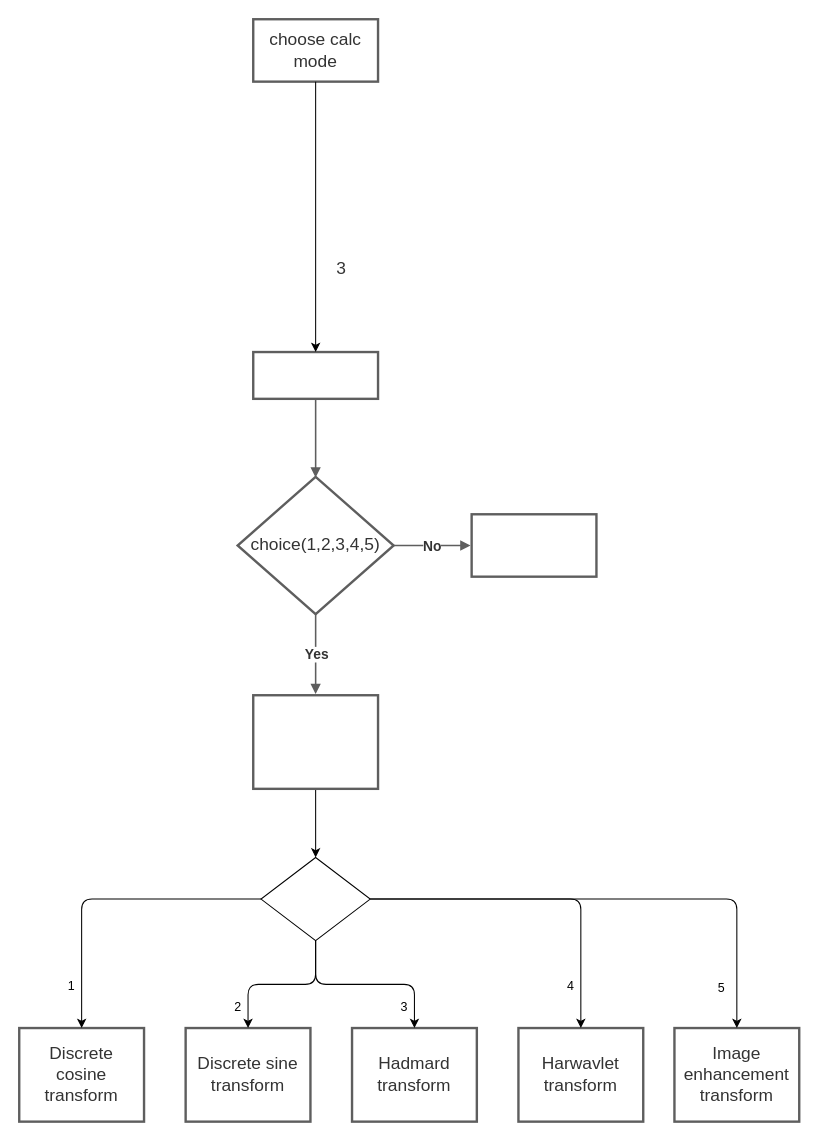
The diagram is 818 pixels wide and 1141 high, and some of its shapes have lost their labels. The centre of each missing label's shape, as x and y in pixels:
electronicsCalc: the point at 315,375
IF CHOICE: the point at 315,898
return(): the point at 533,545
Transformation: the point at 315,742
